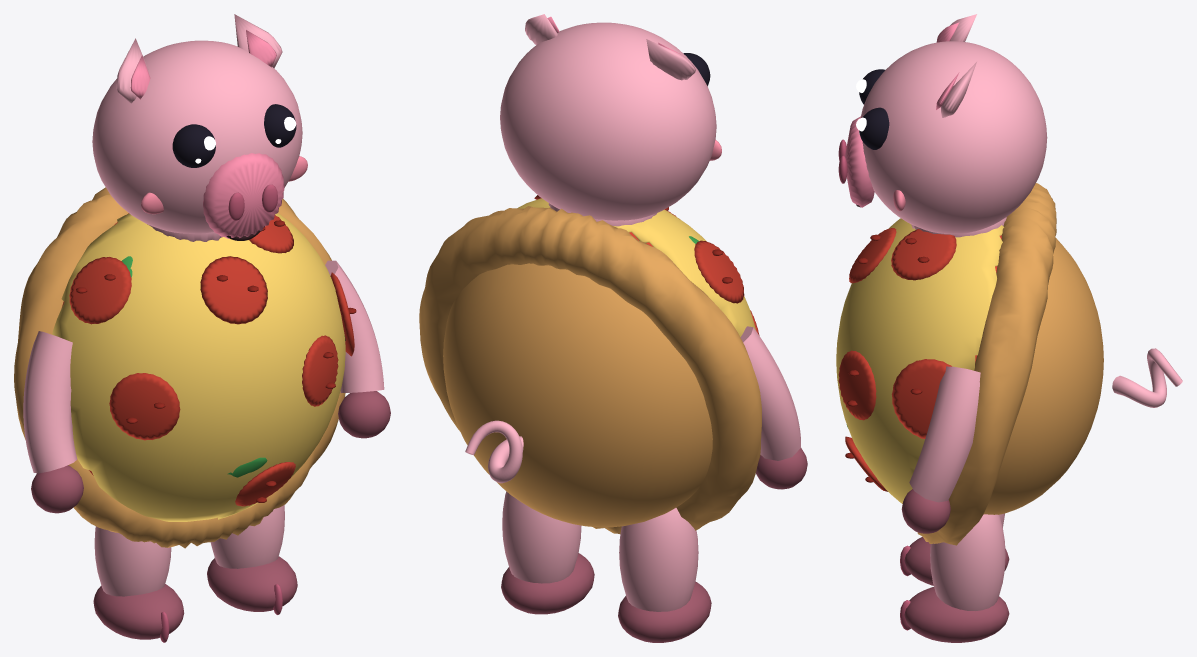
File: pilot_gris2_pizza.glb
3 renders of one model, left to right at view 1: azimuth 30°, elevation 25°; view 2: azimuth 150°, elevation 25°; view 3: azimuth 270°, elevation 25°, orthographic. The views are drawn at different scales.
Parts seen in each view (by area): view 1: kropp, hode, vinge_v, bein_vf, bein_hf, vinge_h; view 2: kropp, hode, bein_vf, bein_hf, vinge_v, hale; view 3: kropp, hode, bein_hf, vinge_h, hale, bein_vf.
Part boxes in pixels (x1,y1,x2,y2): kropp: (14,187,356,548); hode: (92,14,307,241); vinge_v: (23,331,83,513); bein_vf: (93,526,184,642); bein_hf: (207,505,297,614); vinge_h: (325,260,390,438); kropp: (419,195,761,533); hode: (500,14,721,226); bein_vf: (618,508,711,642); bein_hf: (501,491,594,614); vinge_v: (740,326,807,489); hale: (465,420,523,483); kropp: (836,183,1103,545); hode: (838,14,1047,237); bein_hf: (900,514,1009,642); vinge_h: (901,366,980,533); hale: (1112,348,1182,407); bein_vf: (900,513,1009,585).
Bounding box in the file's own units: 1.06 × 1.67 × 0.9173.
